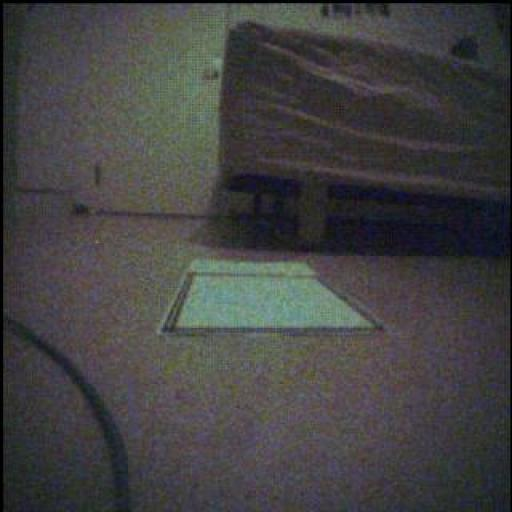pad: (161, 261, 382, 336)
